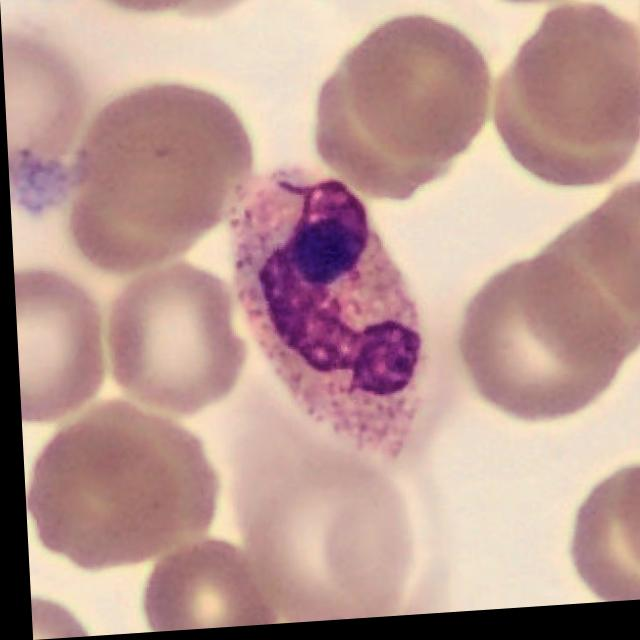Neutrofilo segmentado: (229, 178, 412, 462)
